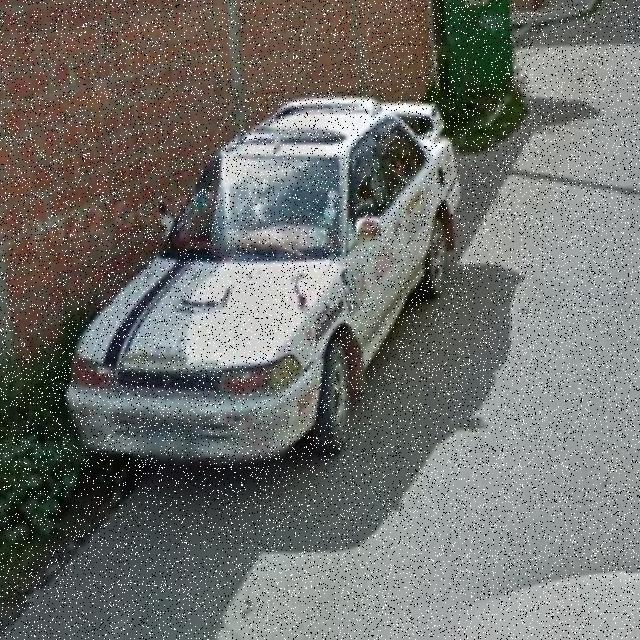cars: (86, 113, 464, 466)
